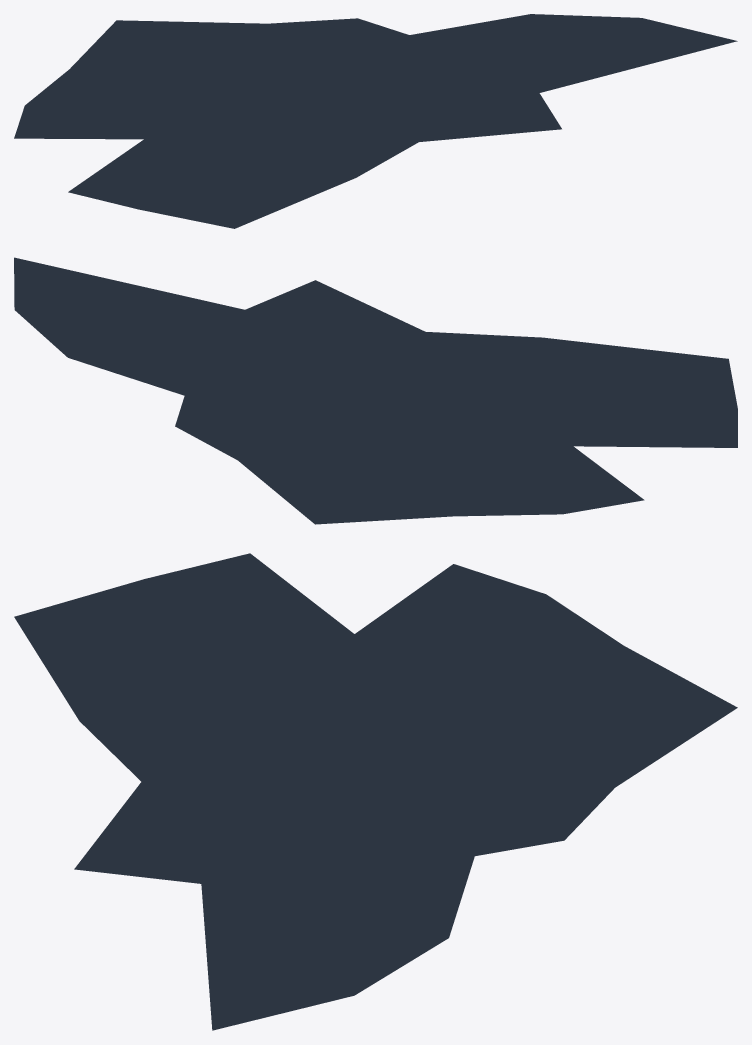
File: puddle_a.glb
The picture shows the model from 3 angles, top to bottom: view 1: azimuth 30°, elevation 25°; view 2: azimuth 150°, elevation 25°; view 3: azimuth 270°, elevation 25°; orthographic projection. The views are drawn at different scales.
Visible parts, largest first — view 1: puddle_a; view 2: puddle_a; view 3: puddle_a.
Boxes of the visible parts, box(x1,y1,x2,y2) form: puddle_a: box(14, 14, 737, 228); puddle_a: box(14, 257, 737, 524); puddle_a: box(14, 553, 737, 1030).
Bounding box in the file's own units: 3.22 × 0 × 2.06.
